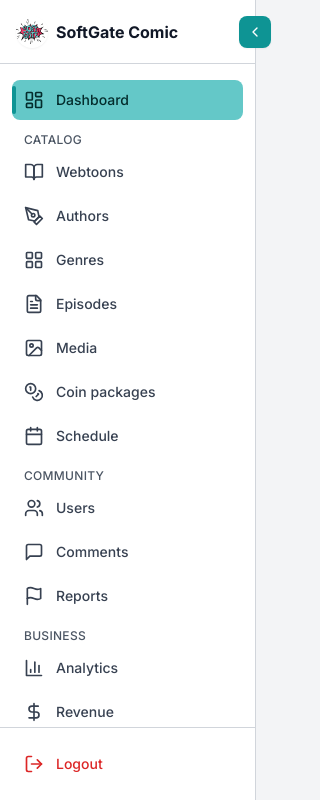
Scenario: Sidebar collapse toggle › shows section labels when expanded and hides them when collapsed
This screenshot has width=320, height=800.
Expected: the text "Catalog" is shown, x1=24 y1=132 x2=82 y2=147
Expected: the text "Community" is shown, x1=24 y1=468 x2=104 y2=483
Click the button named "Collapse sidebar" at (255, 32), box x1=239 y1=16 x2=271 y2=48
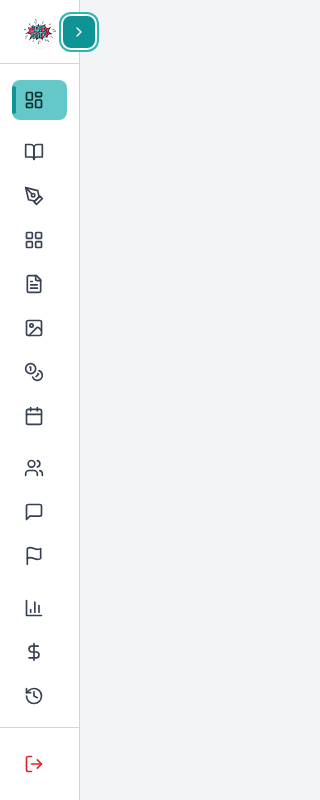
Expected: the text "Catalog" is gone
